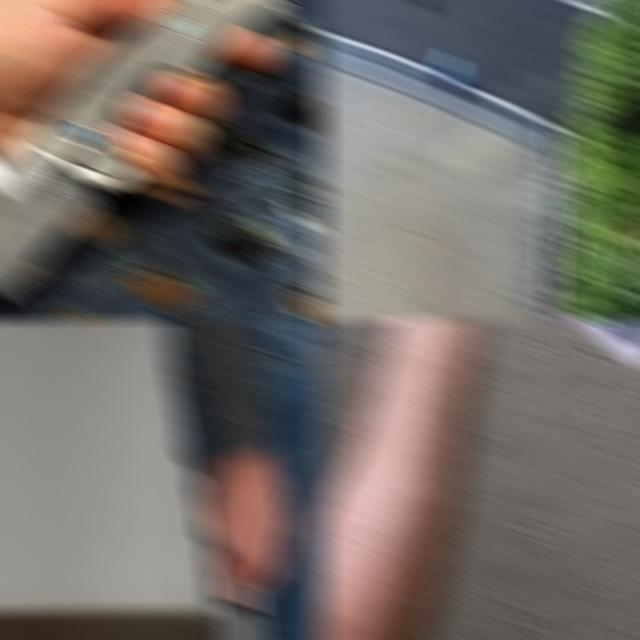Knife: (502, 318, 640, 550), (218, 583, 280, 640)
Knife_Handle: (372, 318, 640, 539), (212, 461, 308, 640)
